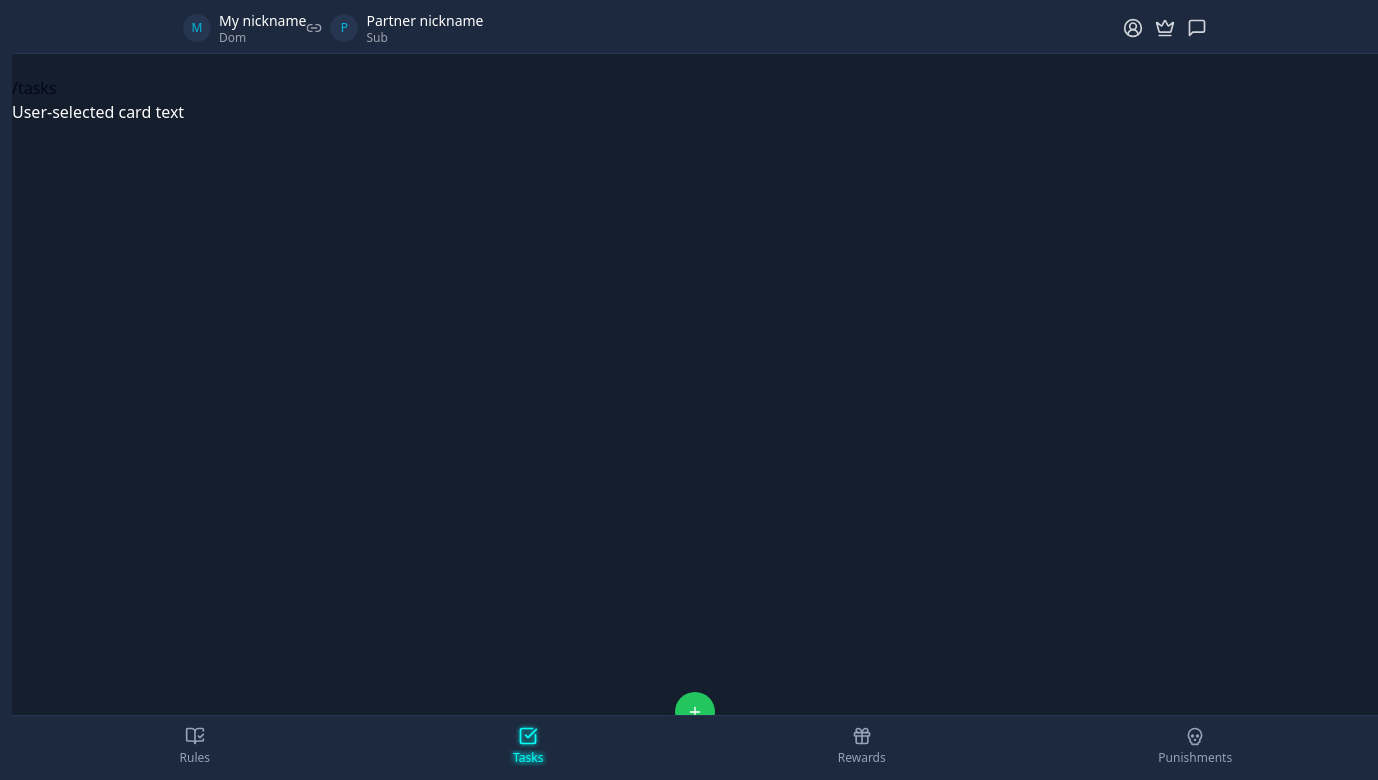
Test: real shared application chrome › preserves original cyan neon navigation in light mode and responds to route changes
Expected: the icon with class "neon-icon" is shown, left=518, top=726, right=538, bottom=746
Click the link "Rules".
click(195, 746)  # box left=180, top=726, right=210, bottom=766
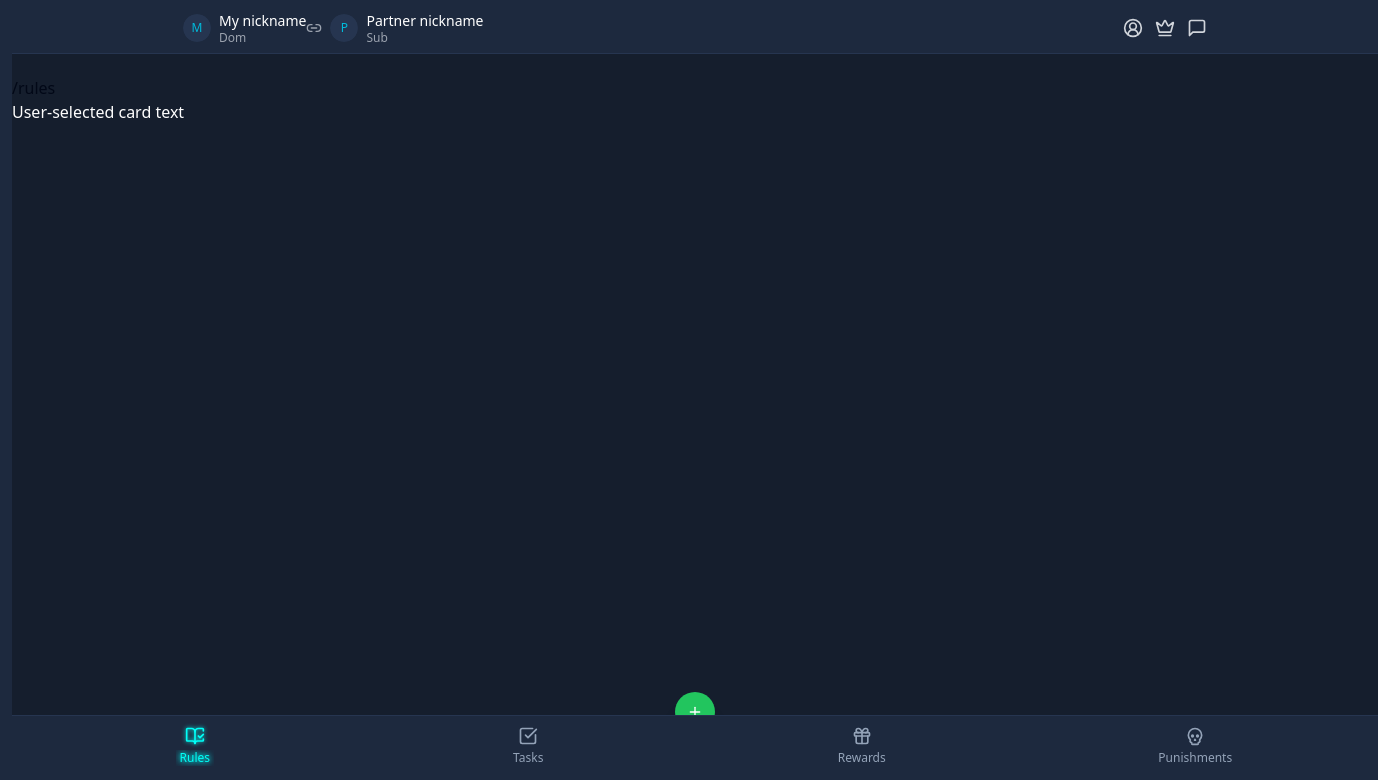
Now the link "Rules" is marked as current, box left=180, top=726, right=210, bottom=766
Now the link "Tasks" does not have attribute aria-current, box left=513, top=726, right=544, bottom=766
